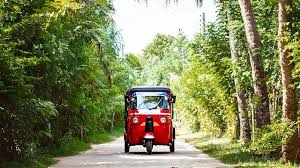tuk tuk: (121, 87, 176, 156)
